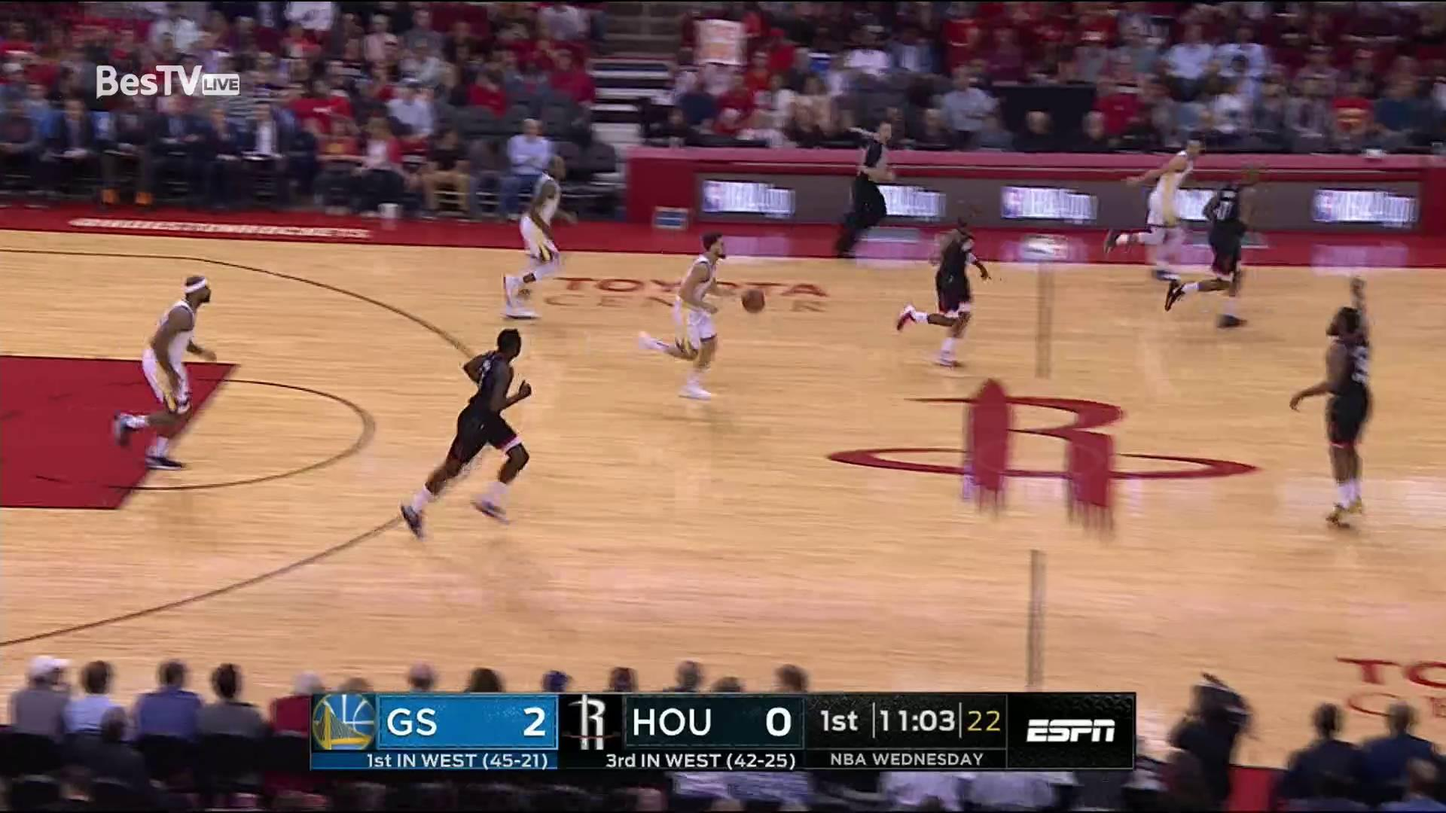basketball: (739, 287, 766, 316)
